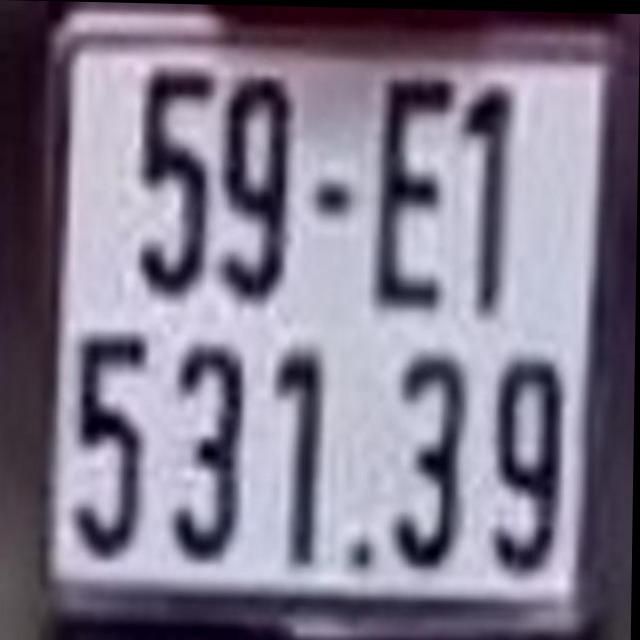1: (272, 345, 321, 564), (463, 77, 508, 315)
3: (178, 341, 247, 561), (402, 347, 464, 565)
5: (74, 329, 150, 558), (141, 64, 215, 289)
9: (224, 74, 288, 295), (496, 352, 561, 566)
E: (381, 71, 443, 303)
